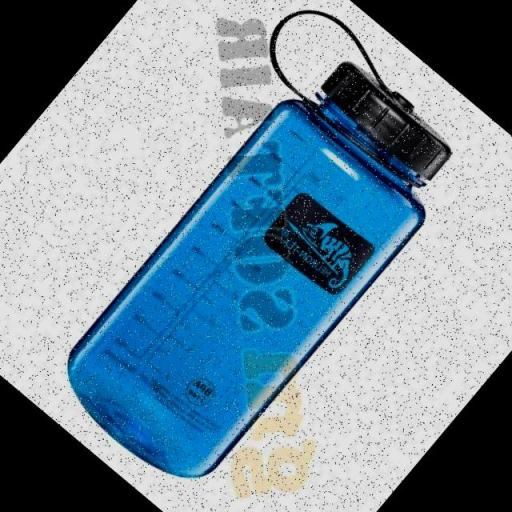bottle: (40, 38, 478, 506)
